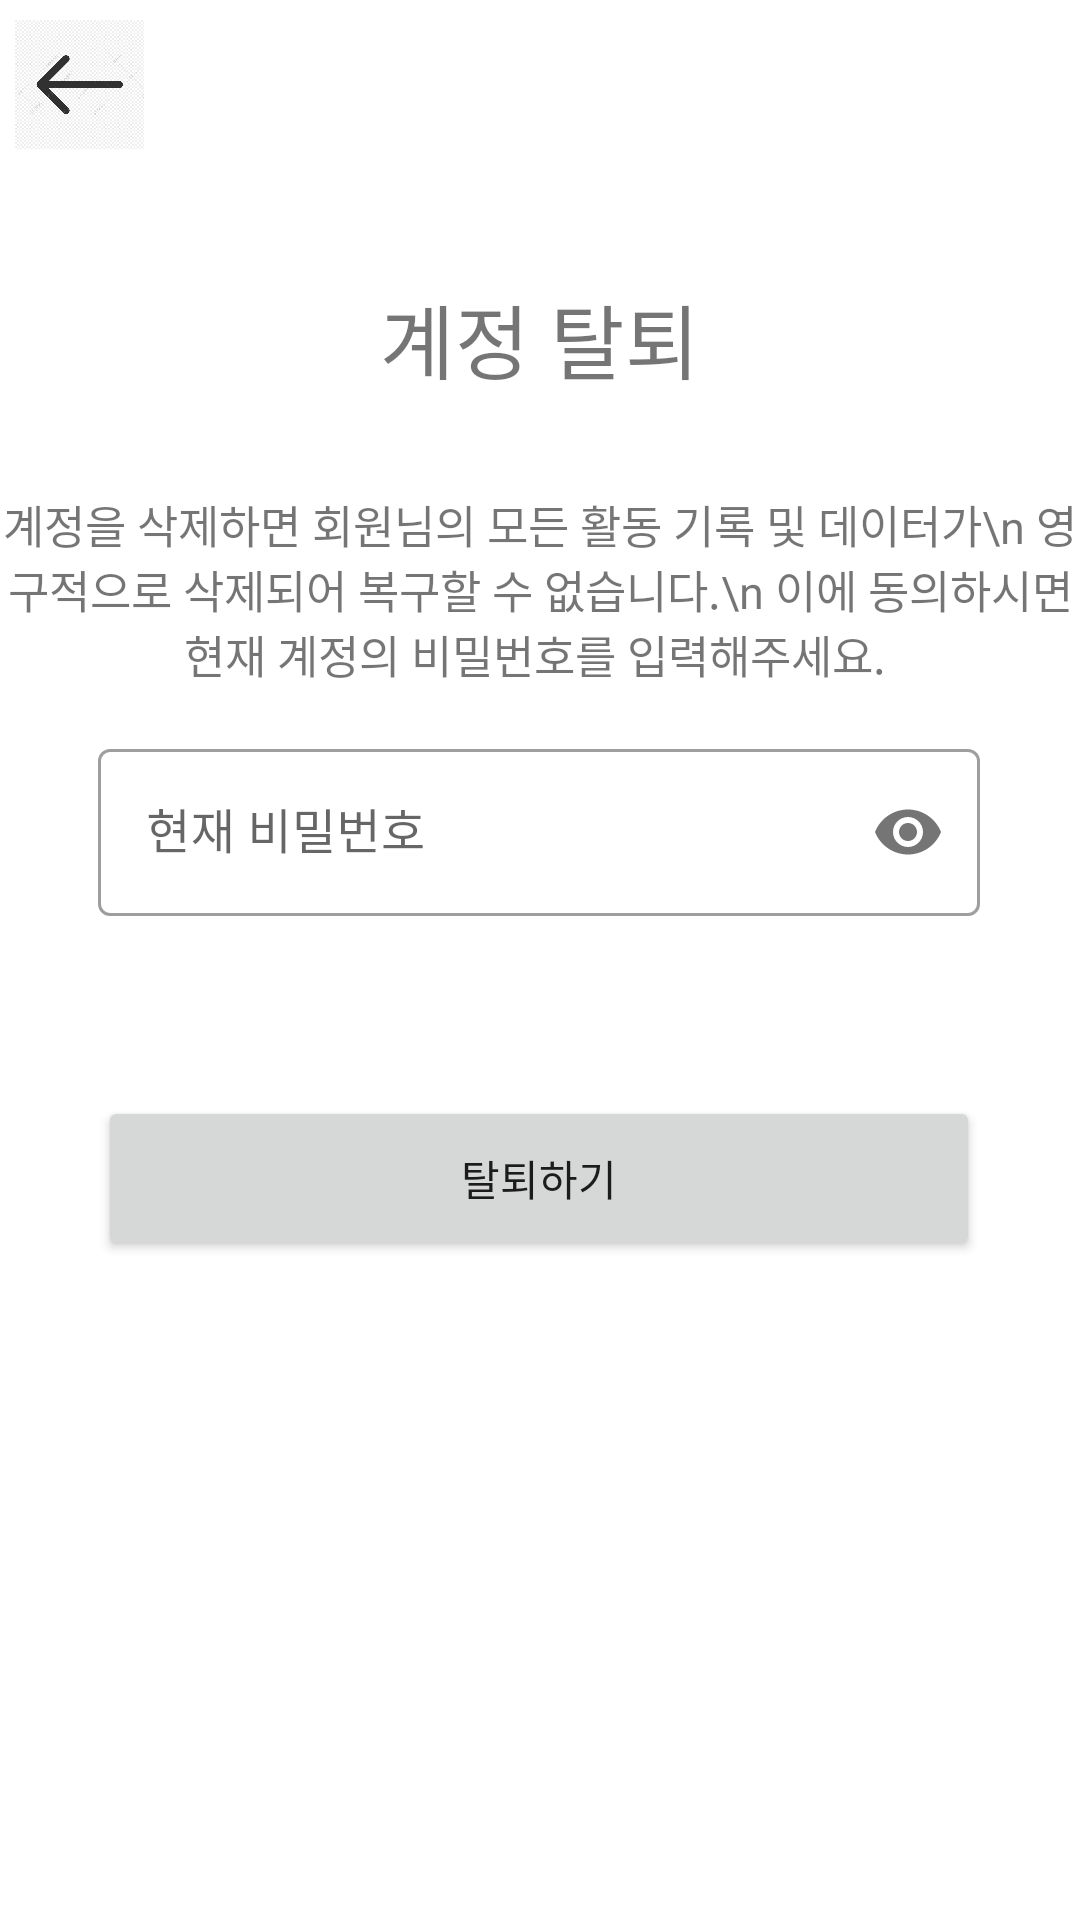

Icons on this 1080w x 1920h Android screen, each with its box as (x1, y1, x2, y2):
back: (16, 53, 144, 116)
